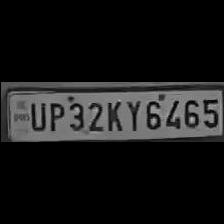2: (84, 98, 104, 132)
3: (64, 99, 84, 131)
4: (163, 96, 181, 130)
5: (200, 96, 220, 128)
6: (142, 97, 160, 131), (181, 96, 199, 128)
K: (103, 98, 123, 132)
P: (45, 100, 63, 132)
U: (26, 99, 44, 131)
Y: (122, 97, 142, 132)
